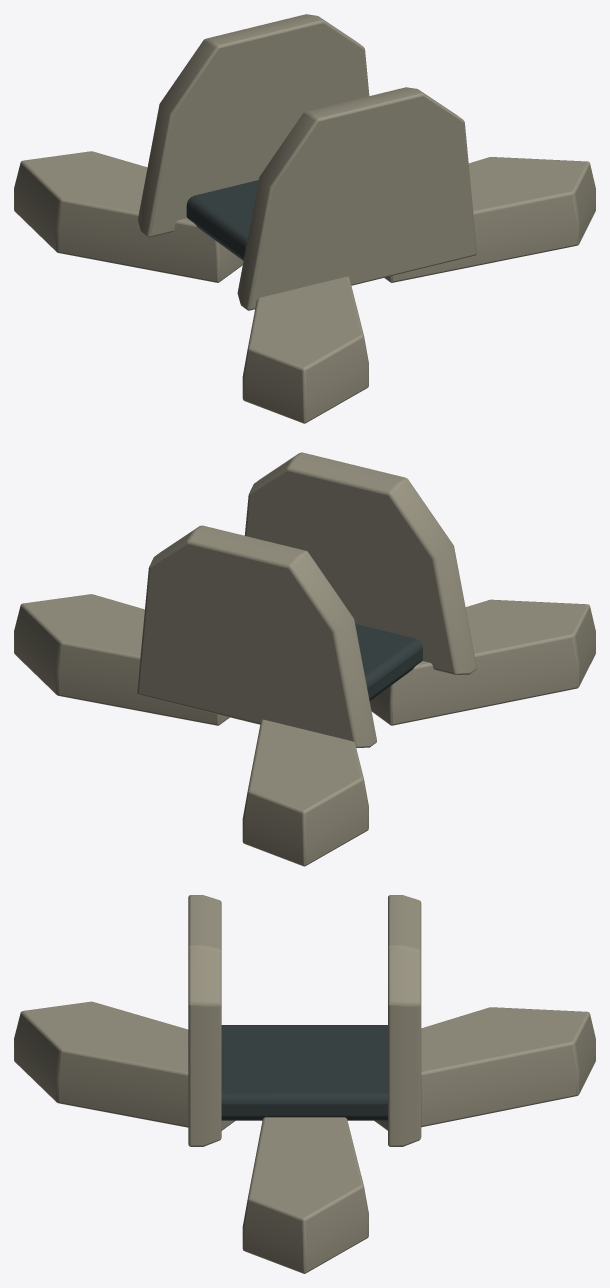
File: quarantine_pylon_foot_lod2.glb
3 renders of one model, top to bottom at view 1: azimuth 30°, elevation 25°; view 2: azimuth 150°, elevation 25°; view 3: azimuth 270°, elevation 25°, orthographic.
Visible parts, largest first — view 1: LOD2_ancient, LOD2_substrate; view 2: LOD2_ancient, LOD2_substrate; view 3: LOD2_ancient, LOD2_substrate.
Boxes of the visible parts, x1,y1,x2,y2 form: LOD2_ancient: (14,14,595,423); LOD2_substrate: (186,180,258,260); LOD2_ancient: (14,452,595,866); LOD2_substrate: (355,624,422,700); LOD2_ancient: (14,895,595,1273); LOD2_substrate: (221,1025,387,1120).
Size of the model in its own units: 2.55 by 1.15 by 2.8.
